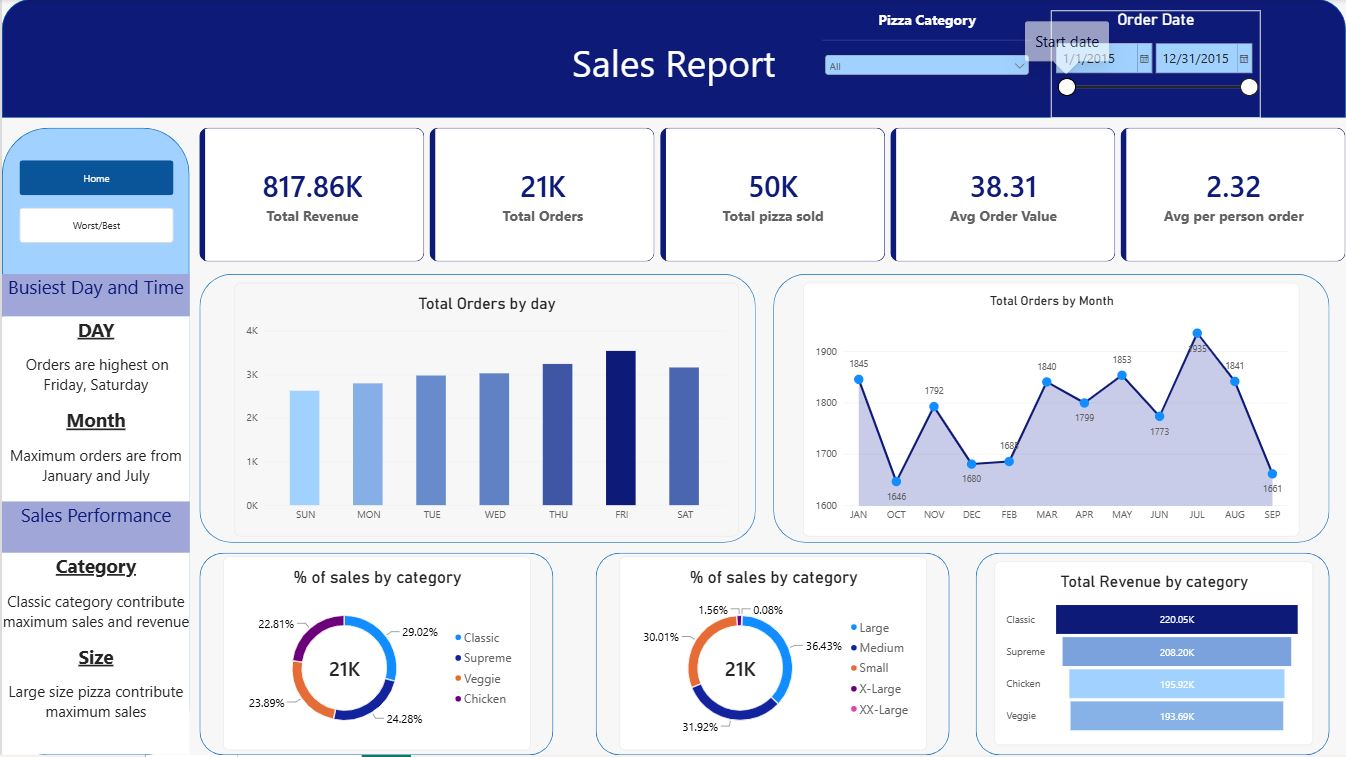

Layout of this report page (visuals, bound fields, positions):
{"tool":"powerbi","page":{"name":"Home","canvas":[1920,1080],"ordinal":0},"visuals":[{"type":"shape","box":[0,183.3,267.9,896.4],"z":0},{"type":"shape","box":[0,0,1919.7,169.6],"z":1000},{"type":"shape","box":[282.1,392.9,794.6,383.9],"z":2000},{"type":"shape","box":[282.1,791.1,505.4,289.3],"z":3000},{"type":"cardVisual","fields":{"Data":["pizza.Total Revenue","pizza.Total Orders","pizza.Total pizza sold","pizza.Avg Order Value","pizza.Avg per person order"]},"box":[282.1,183.9,1637.5,191.1],"z":4000},{"type":"clusteredColumnChart","title":"Total Orders by day","fields":{"Category":["pizza.week_of_day"],"Y":["pizza.Total Orders"]},"box":[332.1,405.4,719.6,362.5],"z":5000},{"type":"areaChart","title":"Total Orders by Month","fields":{"Category":["pizza.month_of_day"],"Y":["pizza.Total Orders"]},"box":[1144.6,405.4,708.9,362.5],"z":6000},{"type":"shape","box":[1101.7,393.3,794.6,383.9],"z":7000},{"type":"shape","box":[848.2,791.1,505.4,289.3],"z":8000},{"type":"shape","box":[1391.1,791.1,505.4,289.3],"z":9000},{"type":"donutChart","title":"% of sales by category","fields":{"Category":["pizza.pizza_category"],"Y":["pizza.Total Orders"]},"box":[316.1,796.4,439.3,276.8],"z":10000},{"type":"donutChart","title":"% of sales by category","fields":{"Category":["pizza.pizza_size"],"Y":["pizza.Total Orders"]},"box":[882.1,796.4,439.3,276.8],"z":11000},{"type":"funnel","title":"Total Revenue  by category","fields":{"Category":["pizza.pizza_category"],"Y":["pizza.Total Revenue"]},"box":[1417.9,803.6,455.4,262.5],"z":12000},{"type":"textbox","box":[0,53.6,1919.7,116.1],"z":13000},{"type":"textbox","box":[0,393.3,268.3,60],"z":14000},{"type":"textbox","box":[0,453.3,268.3,265],"z":15000},{"type":"textbox","box":[0,718.3,268.3,73.3],"z":16000},{"type":"textbox","box":[0,791.7,268.3,288.3],"z":17000},{"type":"slicer","title":"Pizza Category","fields":{"Values":["pizza.pizza_category"]},"box":[1171.7,16.7,300,115],"z":18000},{"type":"slicer","title":"Order Date","fields":{"Values":["pizza.order_date"]},"box":[1498.3,16.7,300,153.3],"z":19000},{"type":"pageNavigator","box":[25,230,220,50],"z":19001},{"type":"pageNavigator","box":[25,297.5,220,50],"z":19002}]}

Visuals, with their boxes in screenshot pixels (x1, y1, x2, y2), scaled from the page's 1920x1080 canvas onto the 1346x757 screenshot:
shape: (x1=0, y1=128, x2=188, y2=756)
shape: (x1=0, y1=0, x2=1345, y2=119)
shape: (x1=198, y1=275, x2=755, y2=544)
shape: (x1=198, y1=555, x2=552, y2=756)
cardVisual - pizza.Total Revenue x pizza.Total Orders: (x1=198, y1=129, x2=1345, y2=263)
"Total Orders by day" clusteredColumnChart: (x1=233, y1=284, x2=737, y2=538)
"Total Orders by Month" areaChart: (x1=802, y1=284, x2=1299, y2=538)
shape: (x1=772, y1=276, x2=1329, y2=545)
shape: (x1=595, y1=555, x2=949, y2=756)
shape: (x1=975, y1=555, x2=1330, y2=756)
"% of sales by category" donutChart: (x1=222, y1=558, x2=530, y2=752)
"% of sales by category" donutChart: (x1=618, y1=558, x2=926, y2=752)
"Total Revenue  by category" funnel: (x1=994, y1=563, x2=1313, y2=747)
textbox: (x1=0, y1=38, x2=1345, y2=119)
textbox: (x1=0, y1=276, x2=188, y2=318)
textbox: (x1=0, y1=318, x2=188, y2=503)
textbox: (x1=0, y1=503, x2=188, y2=555)
textbox: (x1=0, y1=555, x2=188, y2=756)
"Pizza Category" slicer: (x1=821, y1=12, x2=1032, y2=92)
"Order Date" slicer: (x1=1050, y1=12, x2=1261, y2=119)
pageNavigator: (x1=18, y1=161, x2=172, y2=196)
pageNavigator: (x1=18, y1=209, x2=172, y2=244)
